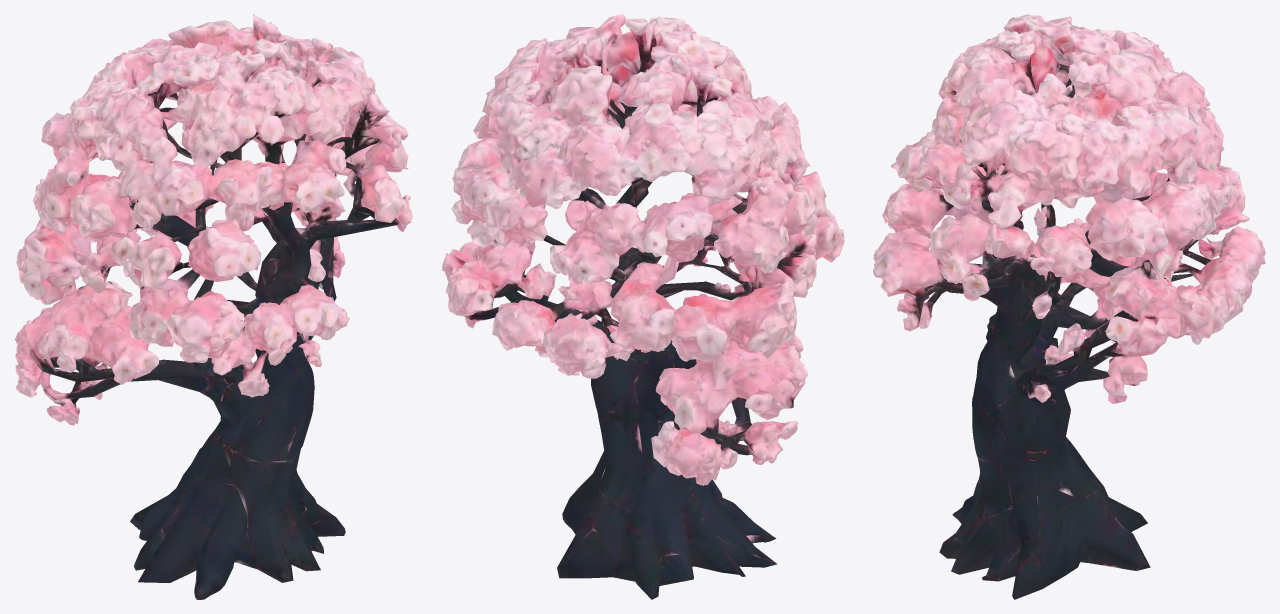
The model's file is sakura_tree.glb.
3 views of the same model, side by side, from view 1: azimuth 30°, elevation 25°; view 2: azimuth 150°, elevation 25°; view 3: azimuth 270°, elevation 25° (orthographic). The views are drawn at different scales.
Size of the model in its own units: 1.3 by 1.9 by 1.3.
Materials: 1 (1 with a texture image).
